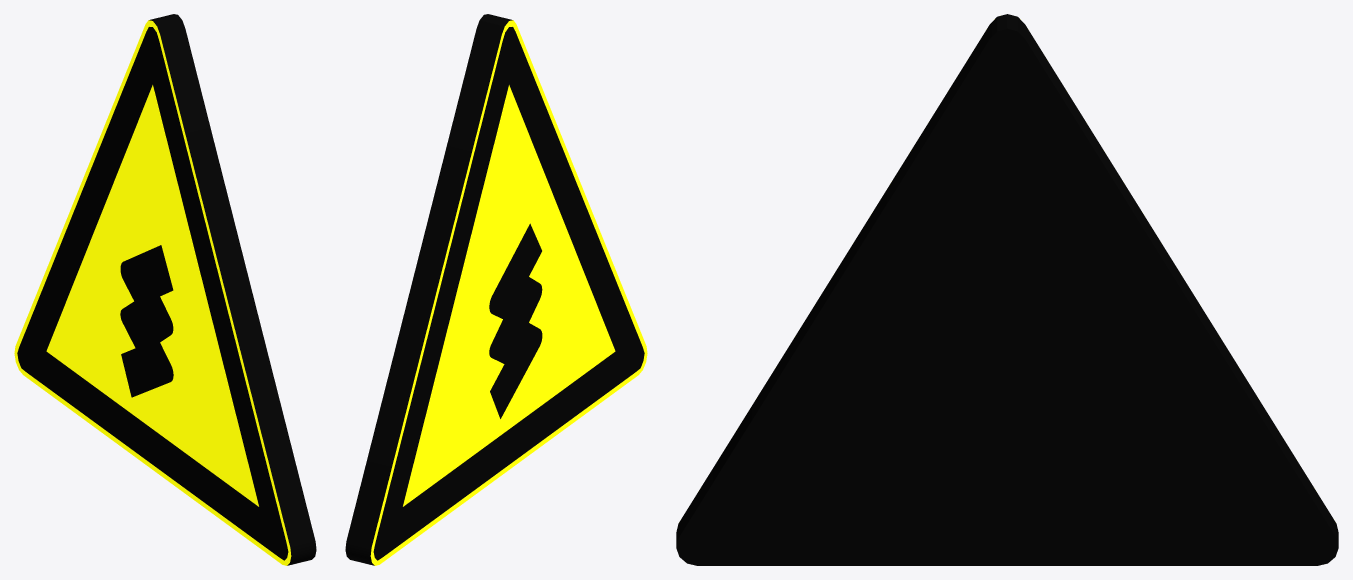
File: Long_Curve_Road.glb
3 renders of one model, left to right at view 1: azimuth 30°, elevation 25°; view 2: azimuth 150°, elevation 25°; view 3: azimuth 270°, elevation 25°, orthographic. The views are drawn at different scales.
Visible parts, largest first — view 1: Long_Curve_Road; view 2: Long_Curve_Road; view 3: Long_Curve_Road.
Part boxes in pixels (x1,y1,x2,y2): Long_Curve_Road: (14,14,316,565); Long_Curve_Road: (345,14,647,565); Long_Curve_Road: (676,14,1338,565).
Size of the model in its own units: 0.075 by 1.02 by 1.14.
